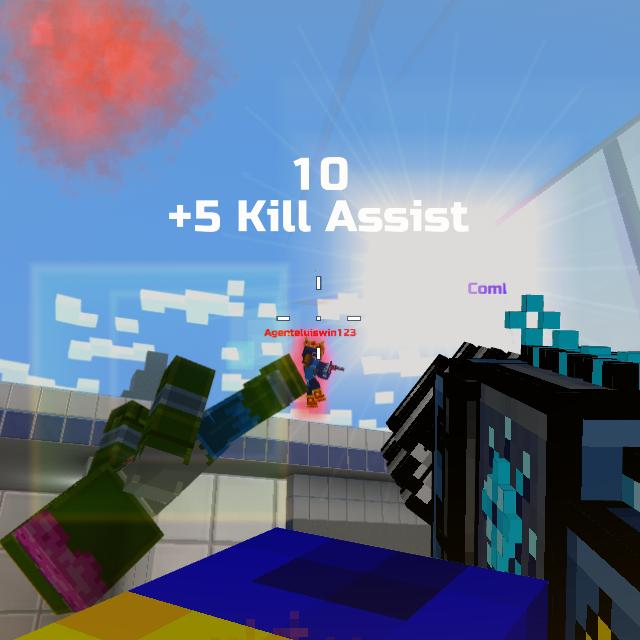Enemy: (302, 336, 332, 407)
